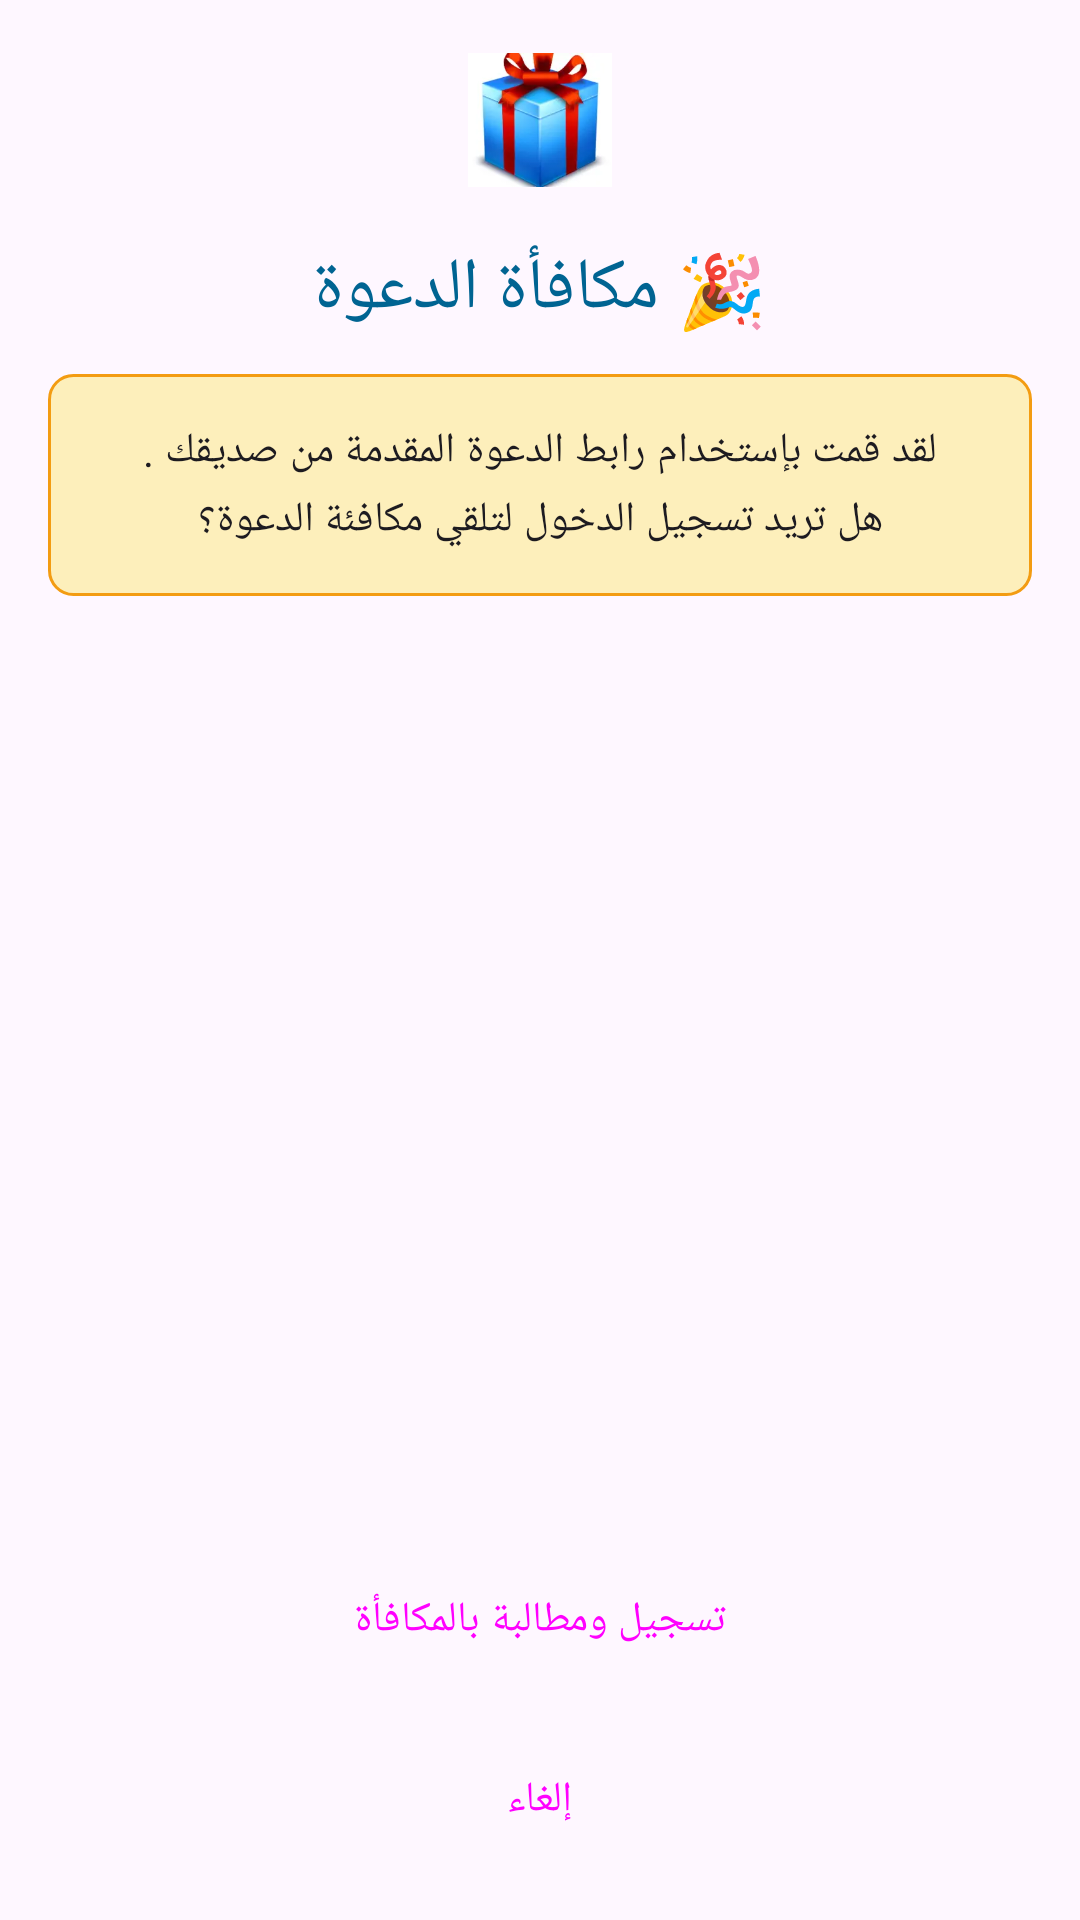

Icons on this 1080×1920 Android screen, each with its box as (x1, y1, x2, y2):
gift: (478, 53, 601, 187)
